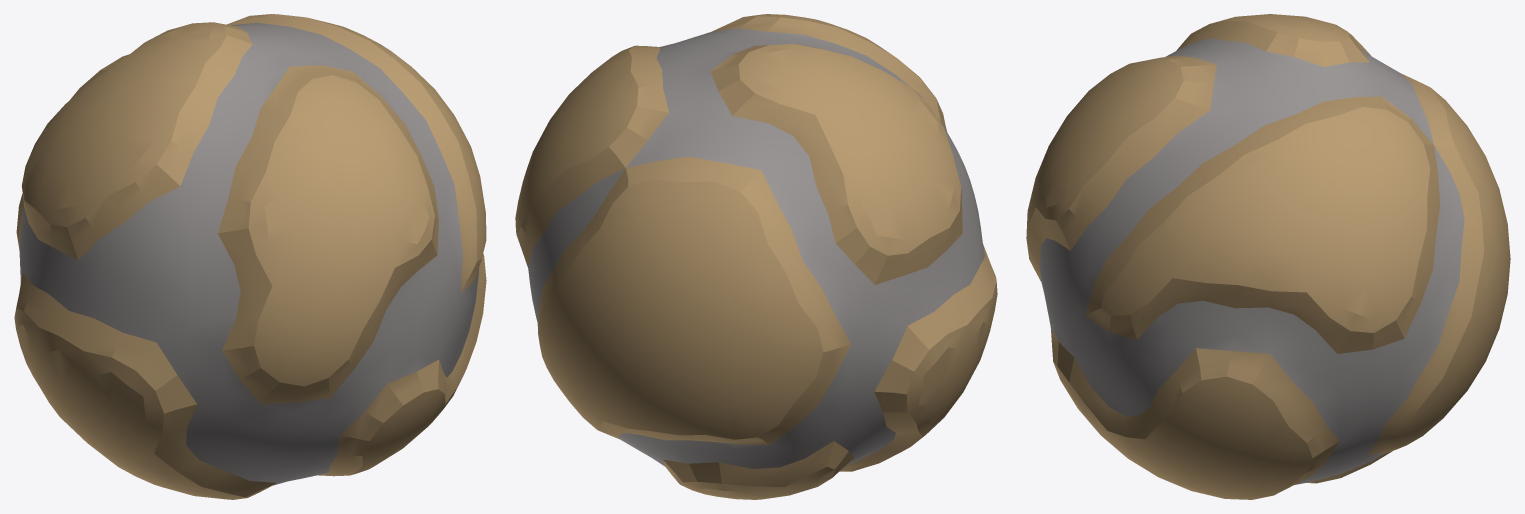
The model's file is quaternius-ultimate-space-pack-planet-2-transformed.glb.
3 views of the same model, side by side, from view 1: azimuth 30°, elevation 25°; view 2: azimuth 150°, elevation 25°; view 3: azimuth 270°, elevation 25° (orthographic).
Visible parts, largest first — view 1: Planet_2; view 2: Planet_2; view 3: Planet_2.
Boxes of the visible parts, x1=… form: Planet_2: x1=14, y1=14, x2=486, y2=499; Planet_2: x1=515, y1=14, x2=997, y2=499; Planet_2: x1=1026, y1=14, x2=1510, y2=499.
Size of the model in its own units: 3.8 by 3.82 by 3.84.
Materials: 1 (1 with a texture image).
